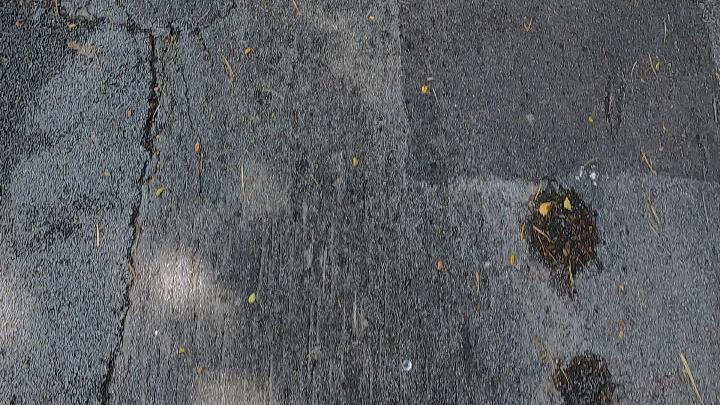Crack: (50, 0, 174, 403), (48, 0, 168, 346), (102, 355, 116, 404)
Pothole: (515, 170, 608, 306), (521, 177, 601, 300), (548, 348, 619, 405), (553, 351, 613, 404)
